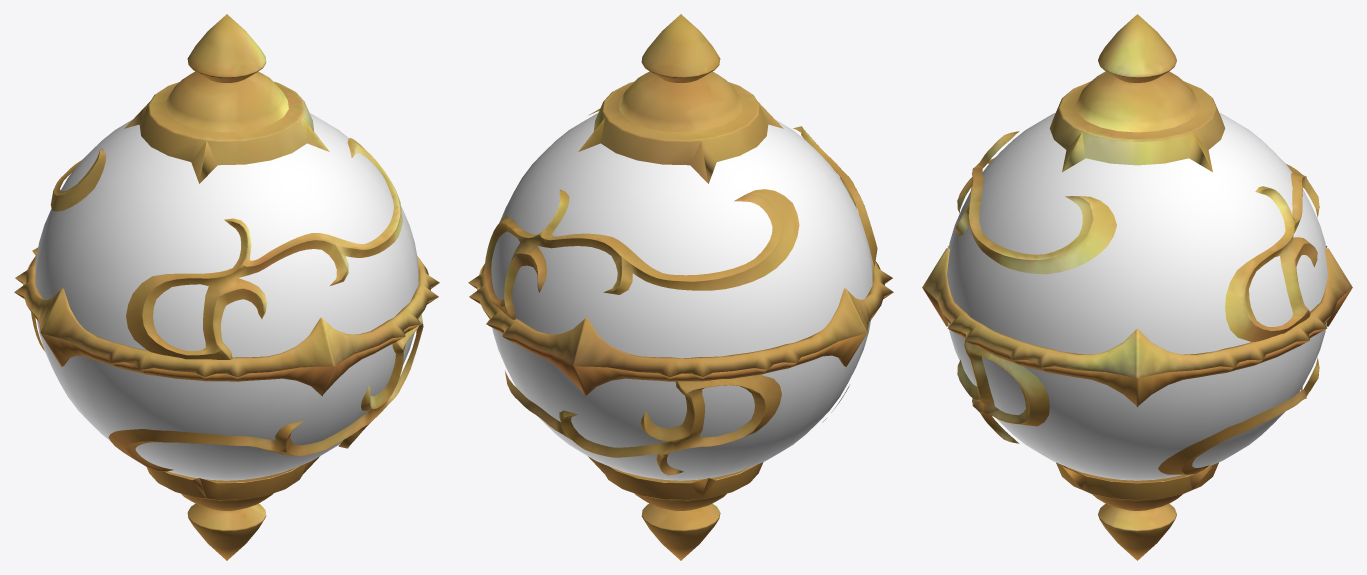
File: SK_Weapon_PalSphere_001_1e0546.glb
3 views of the same model, side by side, from view 1: azimuth 30°, elevation 25°; view 2: azimuth 150°, elevation 25°; view 3: azimuth 270°, elevation 25° (orthographic).
Size of the model in its own units: 0.1445 by 0.2024 by 0.1445.
2 materials, 1 textured.
